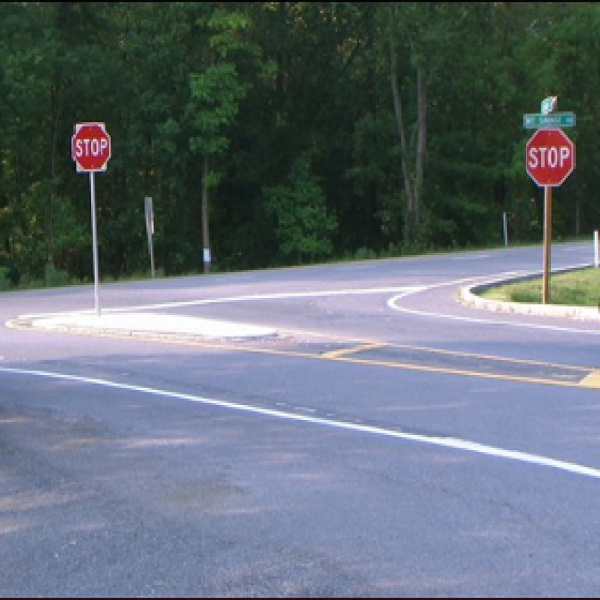stop: (524, 127, 568, 189), (70, 122, 112, 176)
